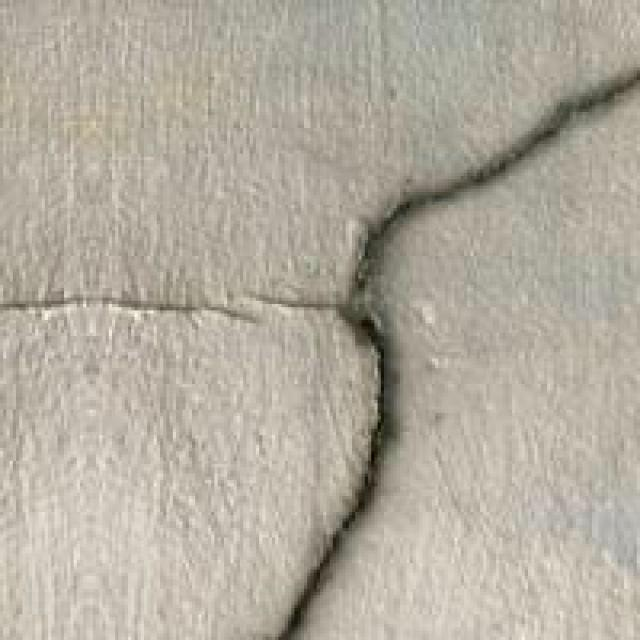crack: (276, 56, 640, 640)
